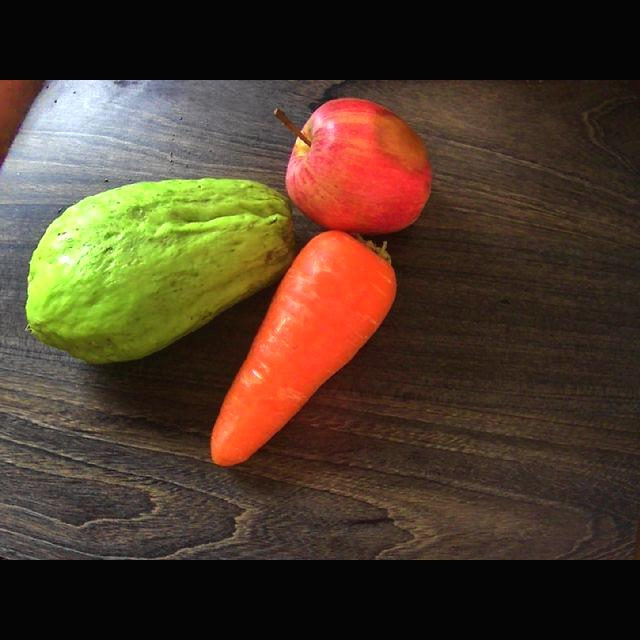chayote: (26, 179, 296, 363)
manzana: (275, 100, 432, 234)
zanahoria: (212, 230, 397, 465)
